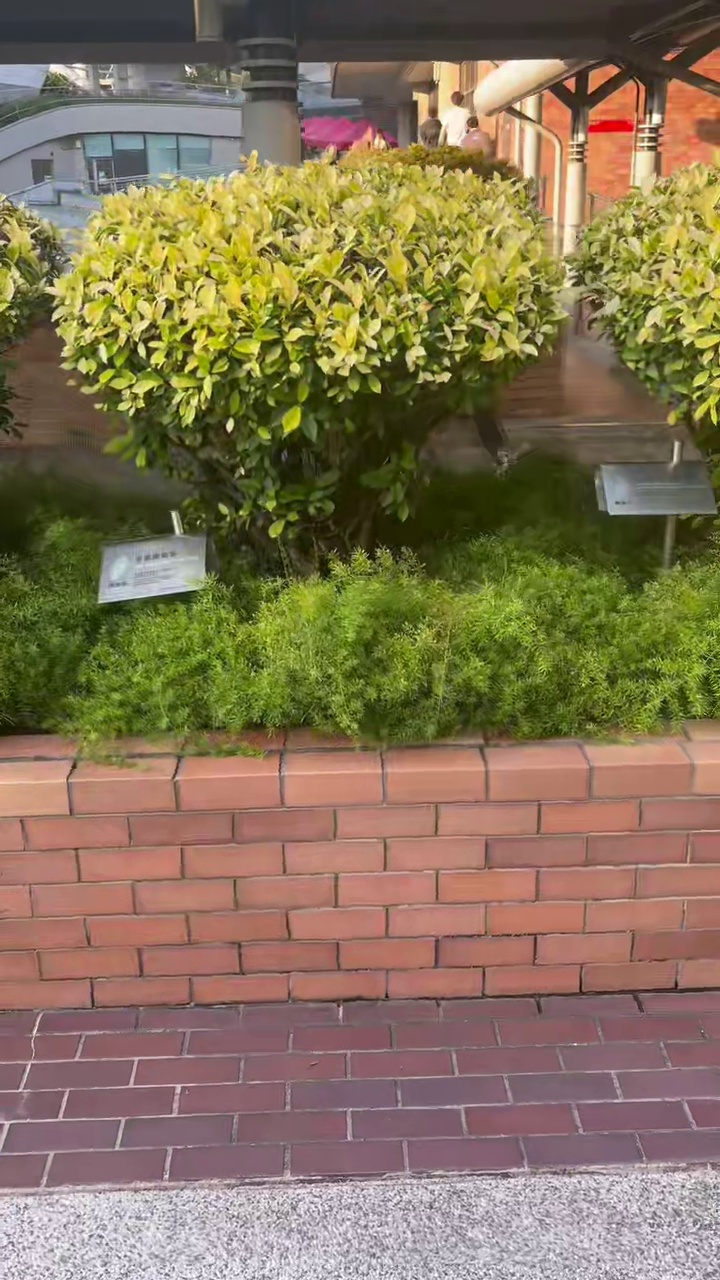Golden-leaves Fig: (54, 159, 561, 567)
